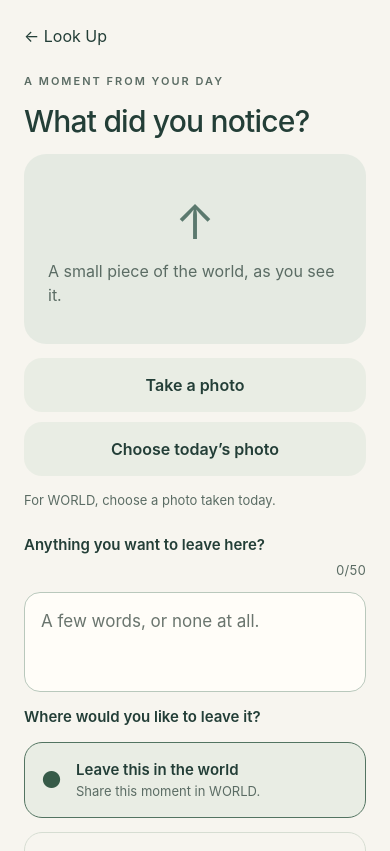
Test: an emoji counts as one character (LU-8)
The image size is (390, 851).
Type "🌤🌤🌤" into the text box named "Optional note" at (195, 642), box left=24, top=592, right=366, bottom=692
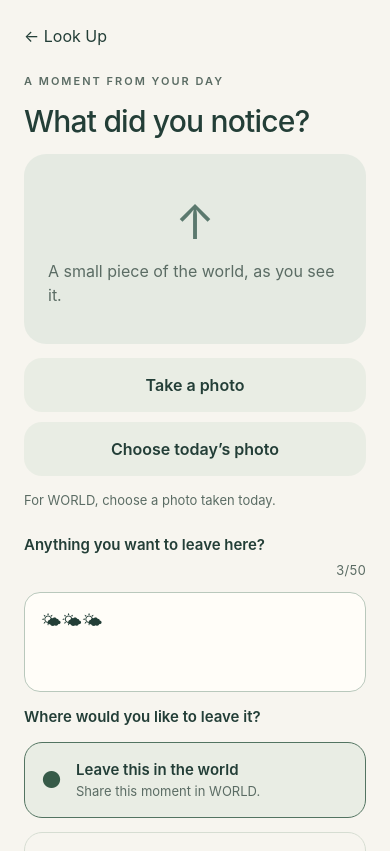
Check: the text named "3 of 50 characters" is shown, box left=336, top=562, right=366, bottom=578
